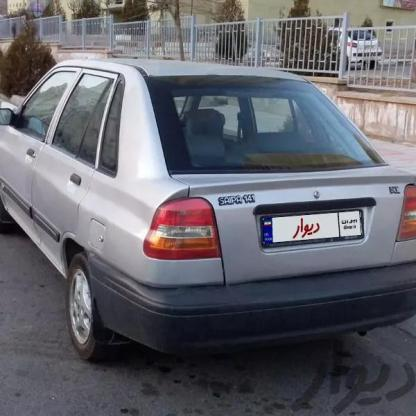Car: (0, 43, 416, 380), (326, 24, 384, 70)
